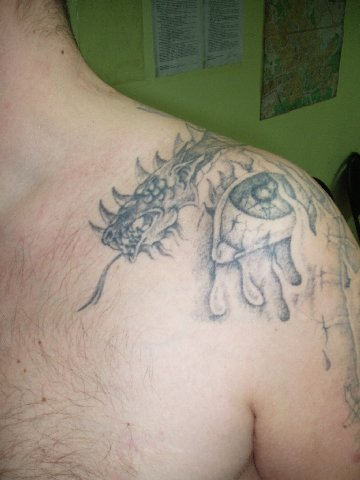tatu6_drakon: (105, 111, 236, 276)
